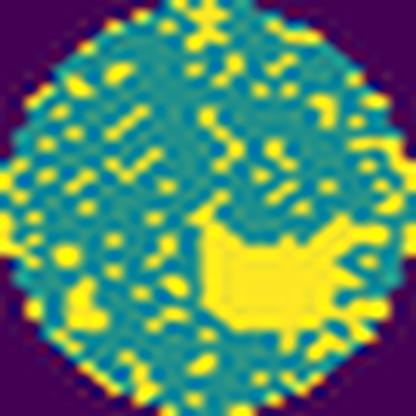Loc: (187, 184, 387, 342)
